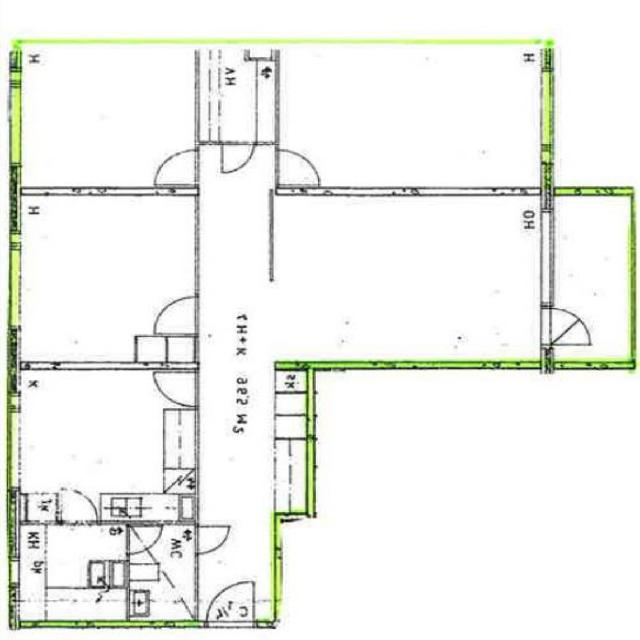door: (207, 581, 254, 629), (541, 309, 595, 345), (152, 298, 198, 334), (275, 151, 320, 186), (156, 151, 198, 185), (156, 373, 198, 407), (62, 490, 98, 525), (222, 142, 255, 172), (126, 528, 161, 555), (194, 527, 228, 554)
